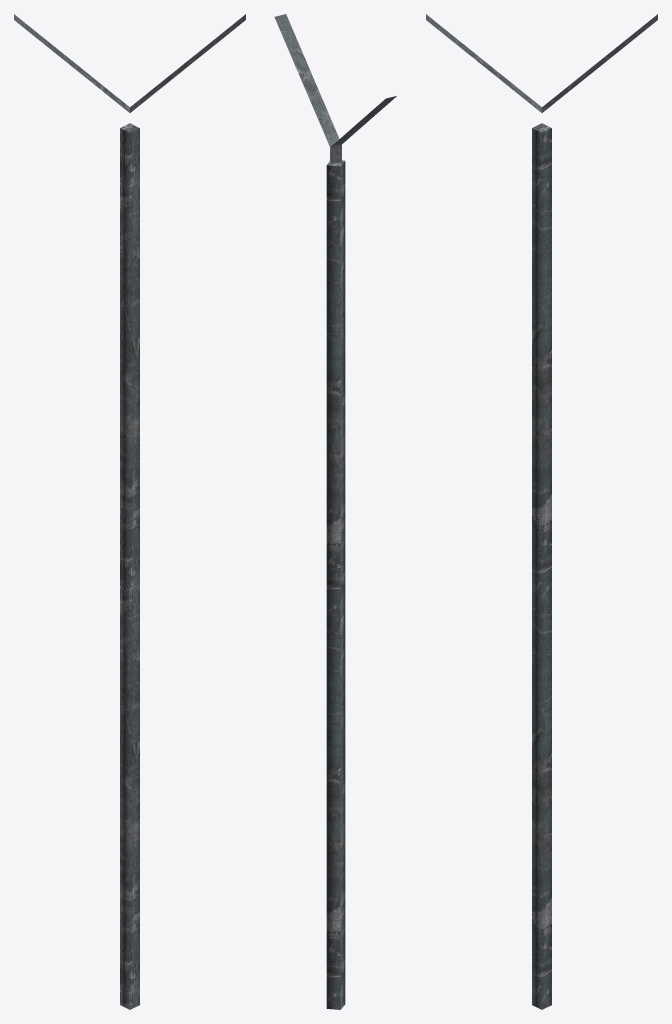
File: Wirepole_LOD1.fbx
3 renders of one model, left to right at view 1: azimuth 90°, elevation 25°; view 2: azimuth 210°, elevation 25°; view 3: azimuth 270°, elevation 25°, orthographic. The views are drawn at different scales.
Visible parts, largest first — view 1: polySurface162; view 2: polySurface162; view 3: polySurface162.
Boxes of the visible parts, box(x1,y1,x2,y2) form: polySurface162: box(14, 14, 245, 1009); polySurface162: box(274, 14, 396, 1009); polySurface162: box(426, 14, 657, 1009).
Bounding box in the file's own units: 0.08 × 3.83 × 0.815.
Materials: 1 (1 with a texture image).
